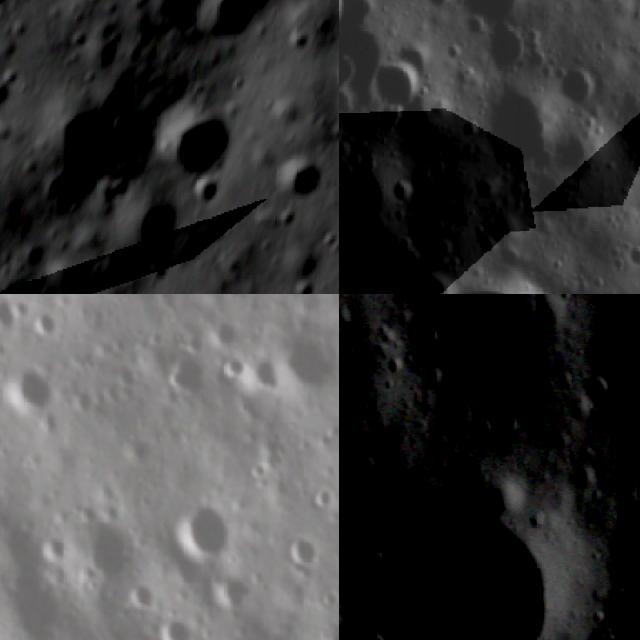crater: (345, 473, 588, 640), (30, 91, 130, 203), (155, 99, 239, 188), (116, 188, 190, 270), (461, 0, 538, 71), (182, 0, 273, 59), (266, 144, 339, 209), (170, 510, 230, 564), (6, 368, 61, 422), (556, 57, 599, 112), (376, 59, 423, 108), (576, 364, 622, 410), (339, 54, 364, 120), (286, 535, 322, 573), (209, 574, 243, 614), (212, 346, 246, 384), (388, 172, 420, 212), (120, 582, 158, 611), (142, 620, 195, 640), (30, 310, 64, 340), (281, 272, 323, 294), (39, 536, 70, 564), (305, 484, 339, 508), (317, 586, 339, 610), (631, 244, 640, 270)
